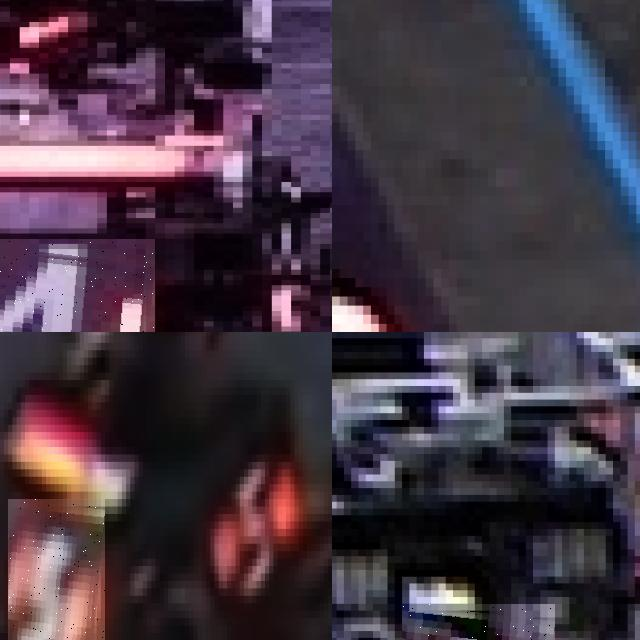R2: (402, 603, 554, 640)
R4: (0, 238, 155, 332)
R5: (8, 499, 105, 640), (206, 469, 307, 596)
